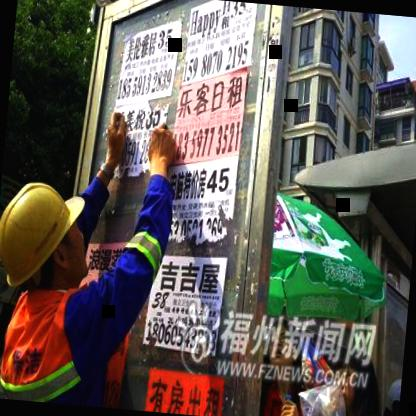helmet: (0, 169, 99, 304)
